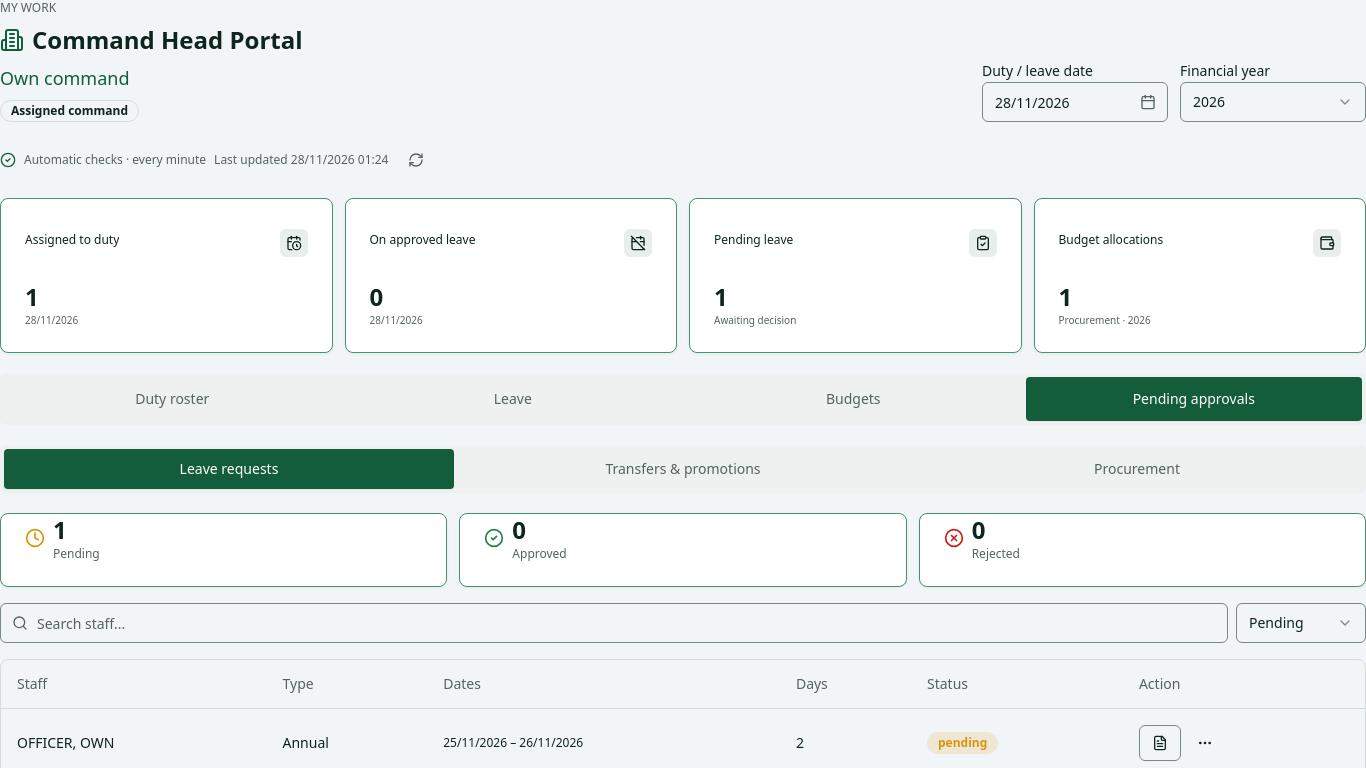
Test: command portal records and decisions › approves an own-command leave request with mandatory comments and reads the new status back
Expected: the text "OFFICER, OWN" is shown, top-left (17, 732), bottom-right (114, 752)
Click the button titled "Review request" at (1160, 742), box top-left (1139, 724), bottom-right (1181, 760)
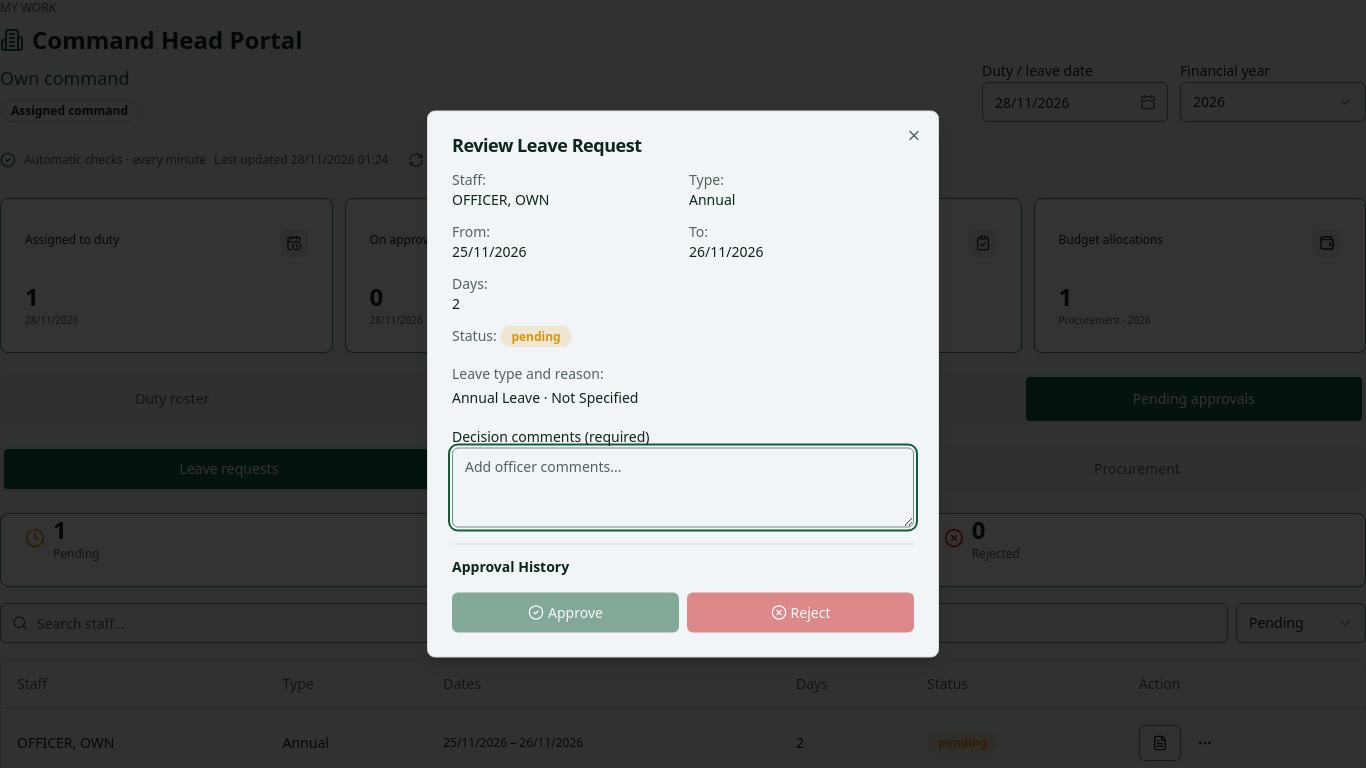
Result: the button "Approve" is disabled at top-left (452, 592), bottom-right (679, 632)
Type "Duty cover confirmed" into the text box labelled "Decision comments (required)" at (683, 488), box top-left (452, 448), bottom-right (914, 528)
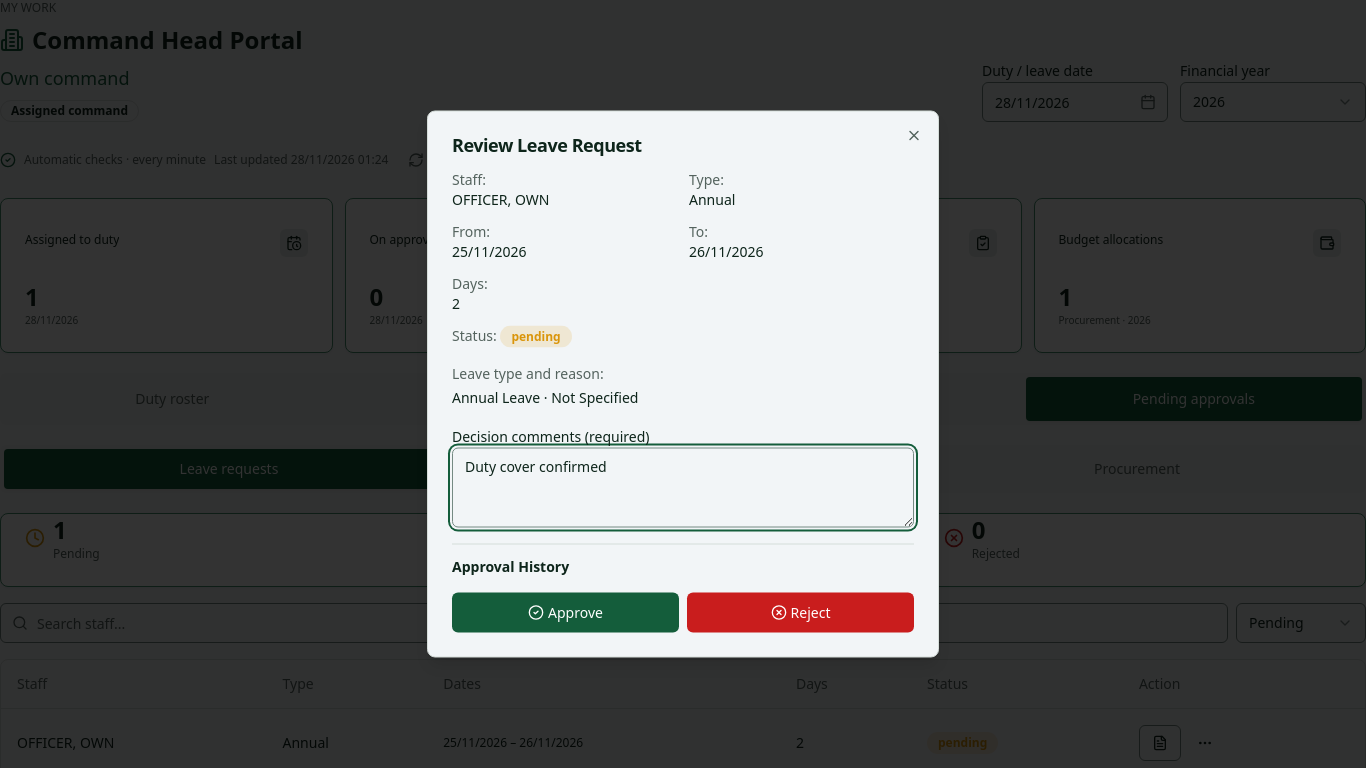
Click the button "Approve" at (566, 612), box top-left (452, 592), bottom-right (679, 632)
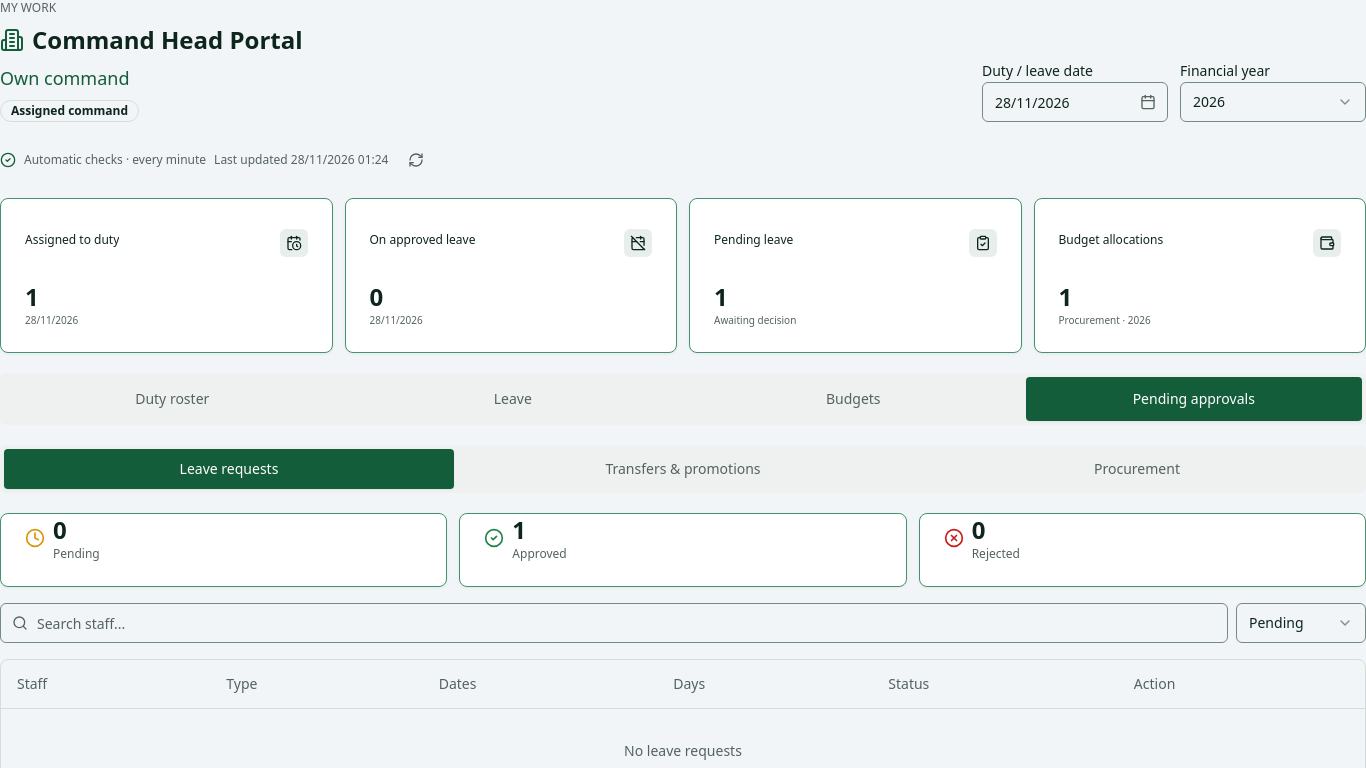
Click the button "1 Approved" at (540, 554), box top-left (459, 513), bottom-right (907, 587)
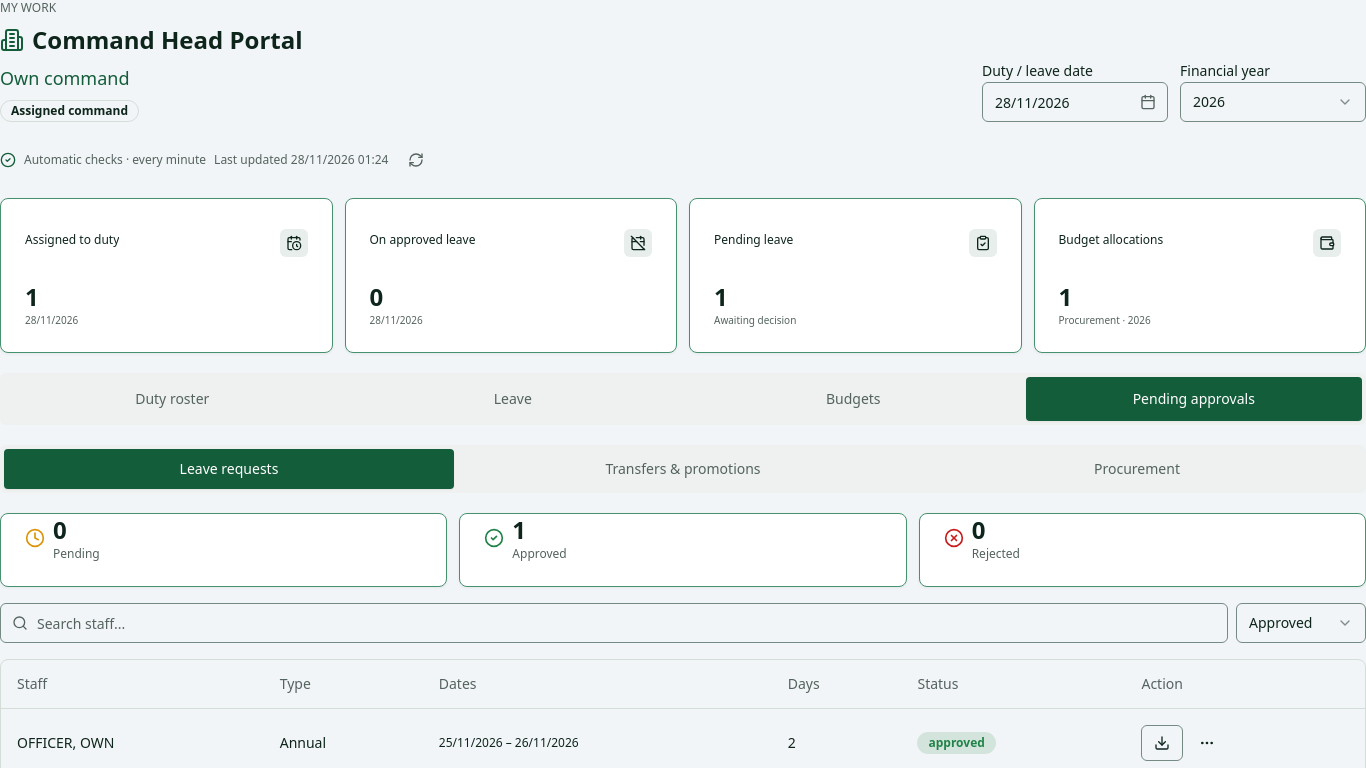
Result: the text "OFFICER, OWN" is shown at top-left (17, 732), bottom-right (114, 752)
